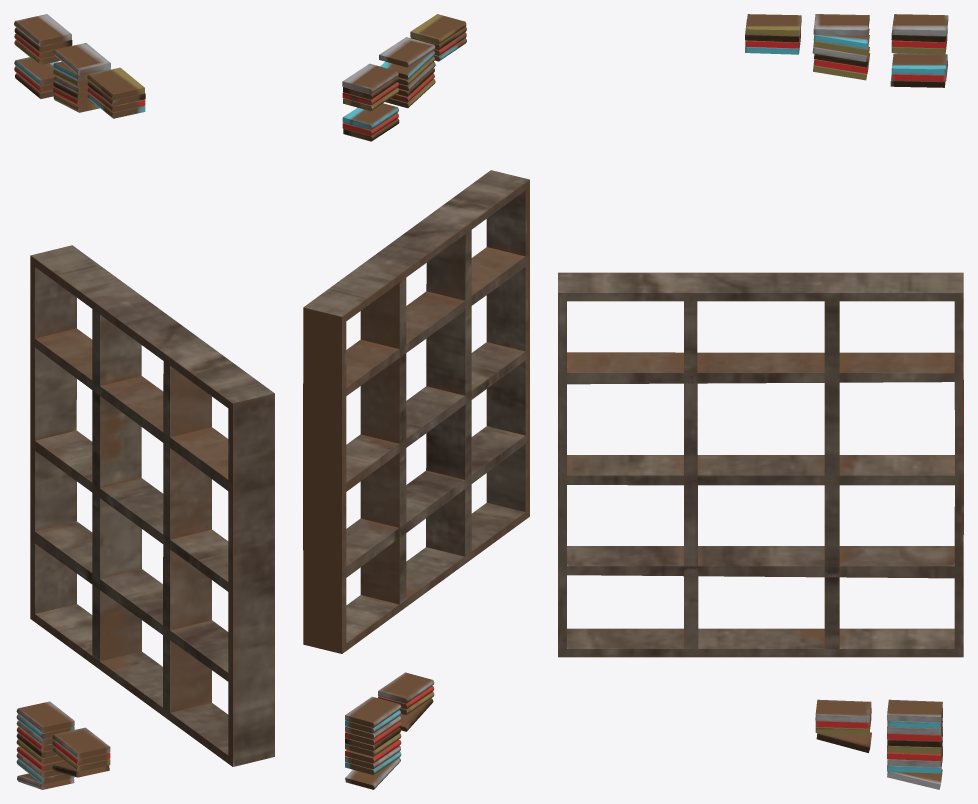
Rendered from Books.obj.
3 renders of one model, left to right at view 1: azimuth 30°, elevation 25°; view 2: azimuth 150°, elevation 25°; view 3: azimuth 270°, elevation 25°, orthographic. The views are drawn at different scales.
Parts seen in each view (by area): view 1: polySurface146.030, polySurface146.079, polySurface146.158, polySurface146.128, polySurface146.020, polySurface146.137, polySurface146.054; view 2: polySurface146.030, polySurface146.020, polySurface146.137, polySurface146.128, polySurface146.158, polySurface146.079, polySurface146.054, polySurface146.010, polySurface146.064, polySurface146.016, polySurface146.098; view 3: polySurface146.030, polySurface146.020, polySurface146.158, polySurface146.128, polySurface146.137, polySurface146.079, polySurface146.054, polySurface146.016.
Boxes of the visible parts, left/top/right/bottom form: polySurface146.030: left=30, top=245, right=274, bottom=766; polySurface146.079: left=87, top=67, right=144, bottom=100; polySurface146.158: left=53, top=43, right=110, bottom=75; polySurface146.128: left=14, top=14, right=71, bottom=46; polySurface146.020: left=52, top=727, right=110, bottom=759; polySurface146.137: left=16, top=701, right=74, bottom=733; polySurface146.054: left=14, top=57, right=57, bottom=85; polySurface146.030: left=303, top=170, right=529, bottom=653; polySurface146.020: left=378, top=672, right=434, bottom=703; polySurface146.137: left=345, top=696, right=401, bottom=727; polySurface146.128: left=342, top=63, right=398, bottom=93; polySurface146.158: left=379, top=37, right=435, bottom=67; polySurface146.079: left=410, top=14, right=466, bottom=44; polySurface146.054: left=342, top=103, right=398, bottom=129; polySurface146.010: left=345, top=757, right=400, bottom=789; polySurface146.064: left=380, top=50, right=435, bottom=79; polySurface146.016: left=399, top=698, right=433, bottom=731; polySurface146.098: left=345, top=739, right=401, bottom=763; polySurface146.030: left=558, top=272, right=963, bottom=657; polySurface146.020: left=815, top=699, right=871, bottom=722; polySurface146.158: left=813, top=14, right=869, bottom=35; polySurface146.128: left=892, top=14, right=948, bottom=35; polySurface146.137: left=887, top=699, right=942, bottom=722; polySurface146.079: left=746, top=14, right=801, bottom=35; polySurface146.054: left=891, top=53, right=947, bottom=74; polySurface146.016: left=816, top=732, right=871, bottom=752.
Bounding box in the file's own units: 1.73 × 18.31 × 8.86.
Materials: 2 (2 with a texture image).
